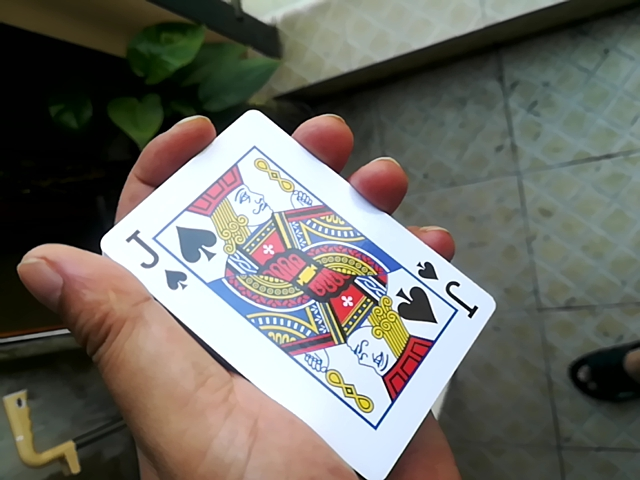ht j: (89, 102, 486, 480)
